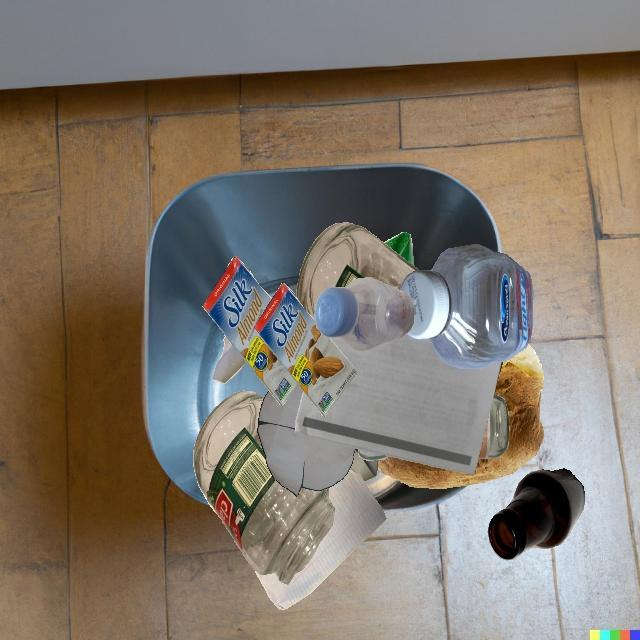biowaste: (377, 344, 544, 489)
cardboard: (202, 256, 298, 406), (254, 283, 357, 417)
glass: (193, 390, 335, 585), (296, 222, 420, 319), (488, 468, 585, 560), (478, 395, 509, 459), (358, 449, 389, 461)
paper: (295, 333, 503, 474), (255, 466, 386, 610), (257, 384, 355, 497), (213, 333, 246, 384), (351, 448, 378, 481)
plastic: (400, 244, 533, 368), (315, 277, 415, 351), (384, 232, 414, 266), (377, 466, 379, 468)
